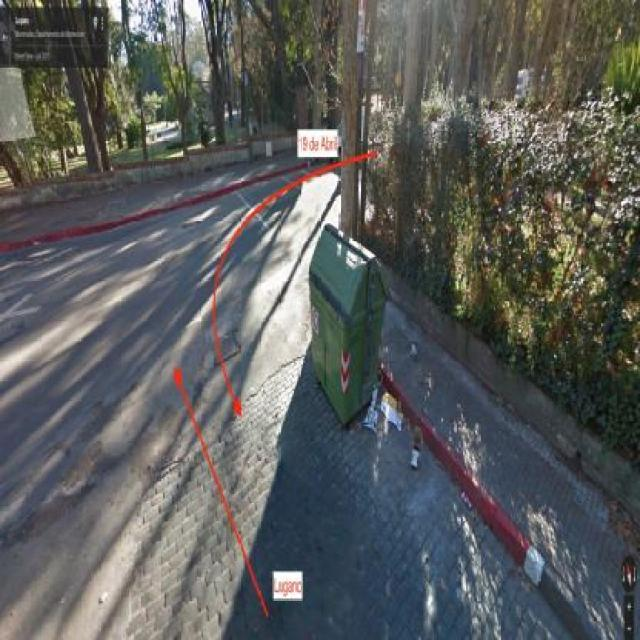garbage: (368, 383, 402, 433), (412, 423, 424, 472)
